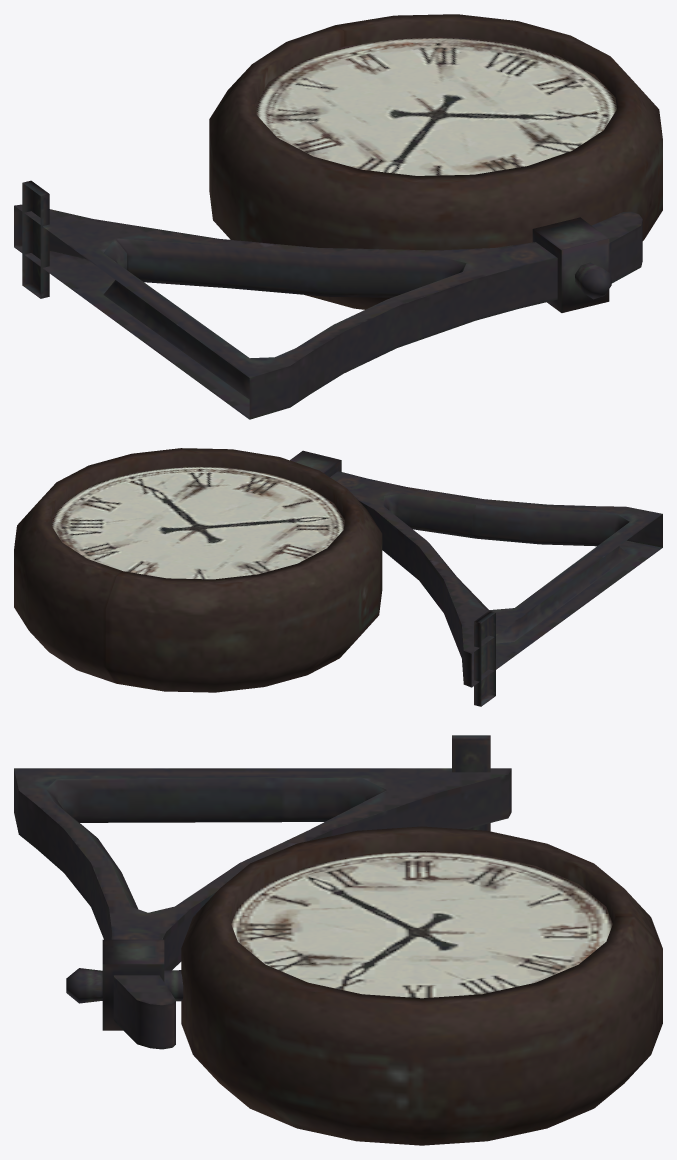
The model's file is hd_env_407_Clock_02.glb.
The picture shows the model from 3 angles, top to bottom: view 1: azimuth 30°, elevation 25°; view 2: azimuth 150°, elevation 25°; view 3: azimuth 270°, elevation 25°; orthographic projection. The views are drawn at different scales.
Parts seen in each view (by area): view 1: set_0_group_0; view 2: set_0_group_0; view 3: set_0_group_0.
Boxes of the visible parts, box(x1,y1,x2,y2) form: set_0_group_0: box(14, 14, 662, 419); set_0_group_0: box(14, 448, 662, 706); set_0_group_0: box(14, 735, 662, 1145).
Size of the model in its own units: 0.9457 by 0.206 by 0.8696.
Materials: 1 (1 with a texture image).
